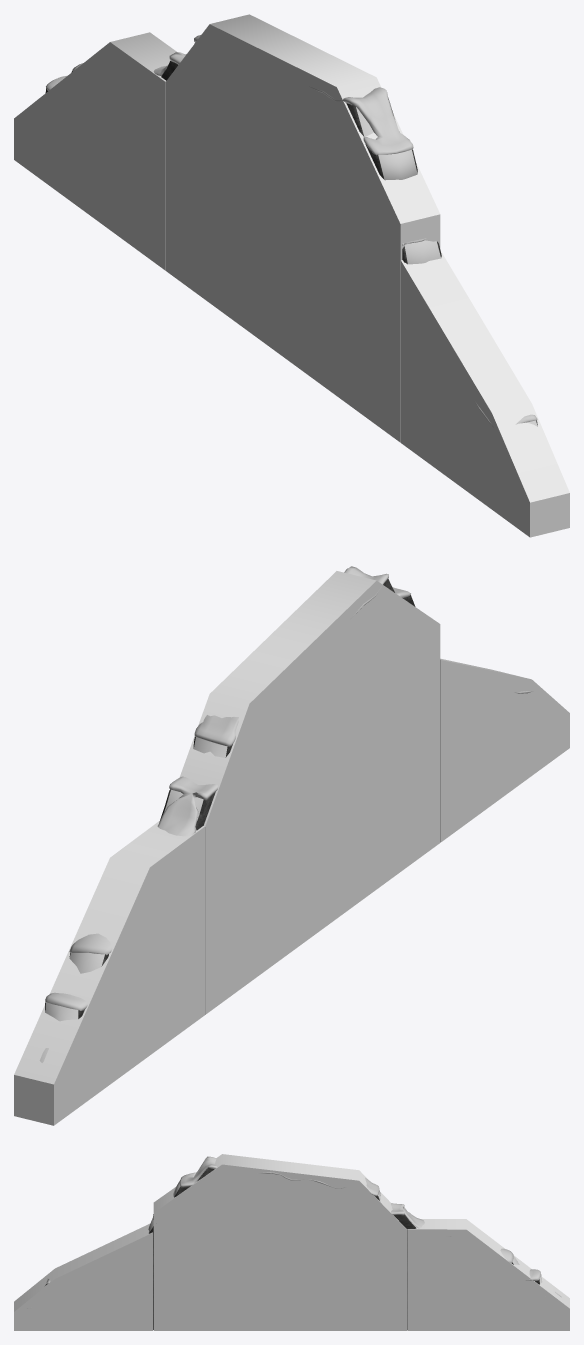
Rendered from Wall-Two_Side.fbx.
3 views of the same model, one above another, from view 1: azimuth 30°, elevation 25°; view 2: azimuth 150°, elevation 25°; view 3: azimuth 270°, elevation 25° (orthographic). The views are drawn at different scales.
Visible parts, largest first — view 1: Wall-Two_Side_col, snow, Wall-Two_Side; view 2: Wall-Two_Side_col, snow, Wall-Two_Side; view 3: Wall-Two_Side_col, snow, Wall-Two_Side.
Part boxes in pixels (x1,y1,x2,y2): Wall-Two_Side_col: (14, 14, 569, 537); snow: (46, 35, 537, 427); Wall-Two_Side: (45, 43, 537, 426); Wall-Two_Side_col: (14, 571, 569, 1125); snow: (39, 566, 533, 1062); Wall-Two_Side: (45, 579, 415, 1021); Wall-Two_Side_col: (14, 1154, 569, 1330); snow: (27, 1156, 561, 1308); Wall-Two_Side: (45, 1167, 542, 1329).
Size of the model in its own units: 18.85 by 134 by 405.
